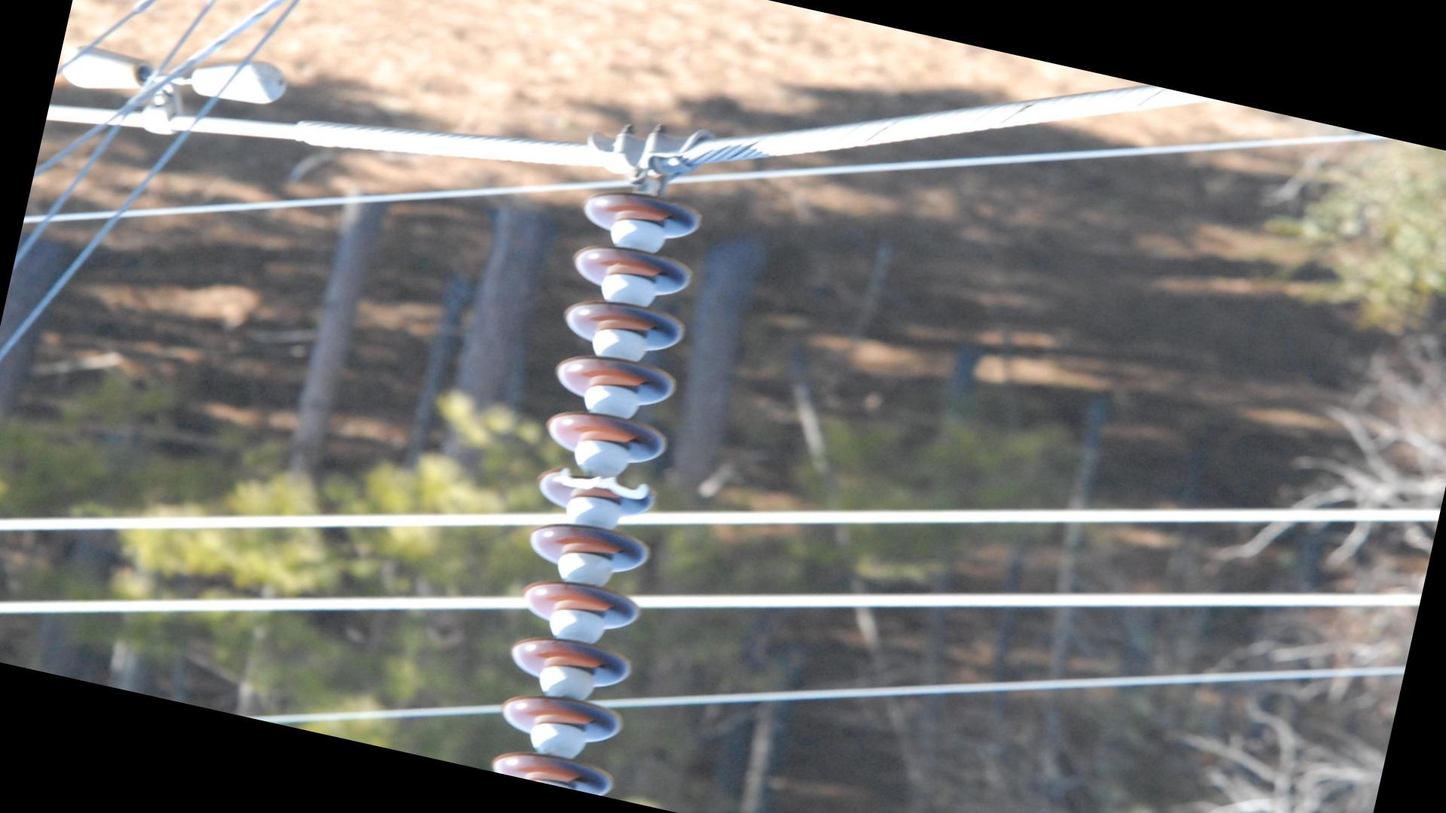damper: (41, 11, 297, 166)
